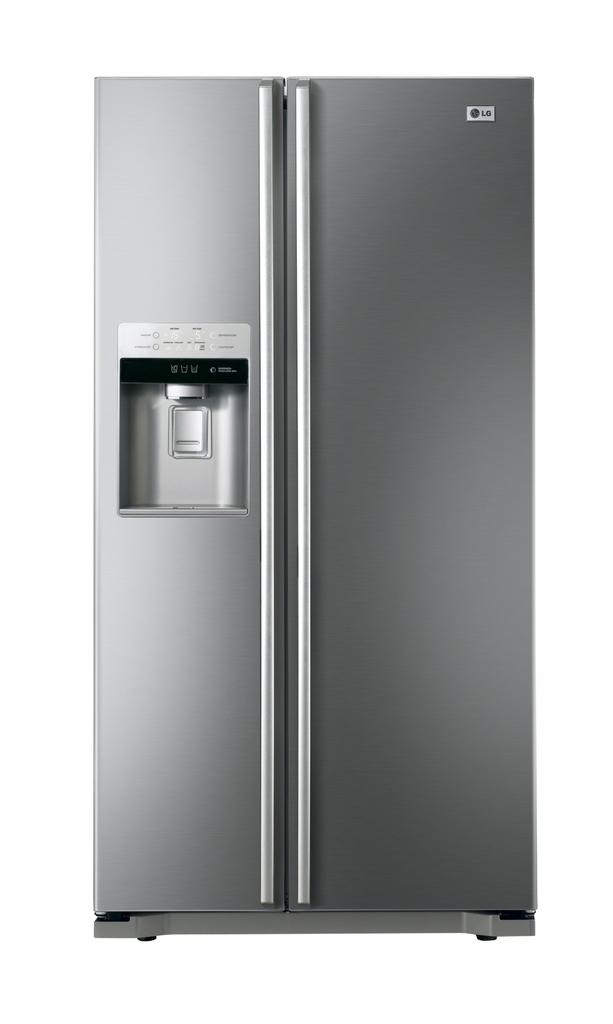handle: (290, 78, 320, 902), (252, 91, 282, 912)
